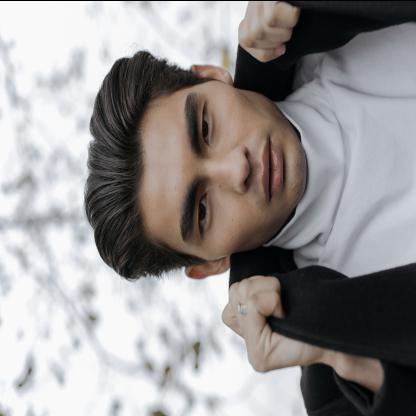Eye: (196, 190, 213, 239), (201, 97, 213, 149)
Mouth: (260, 130, 286, 207)
Nose: (209, 143, 252, 193)
